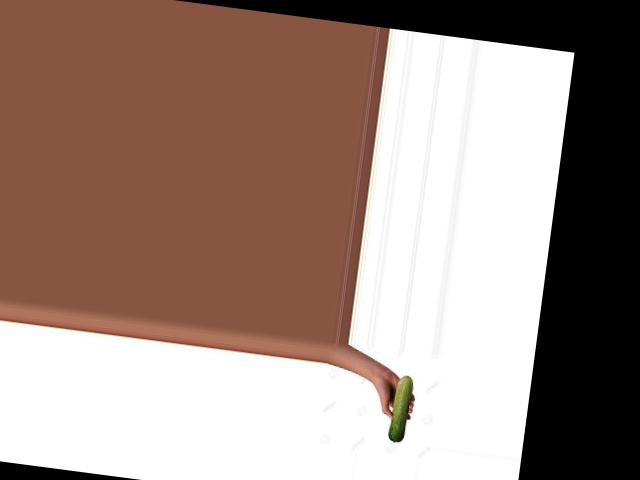cucumber: (386, 373, 413, 443)
